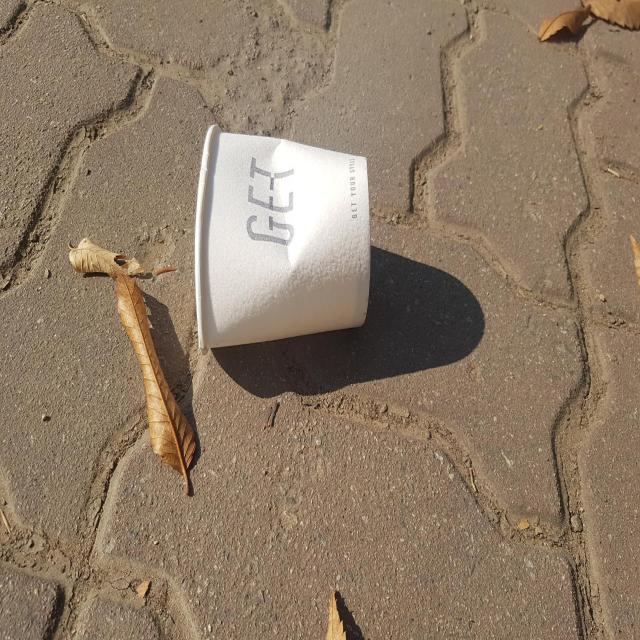paperpack: (195, 124, 371, 349)
